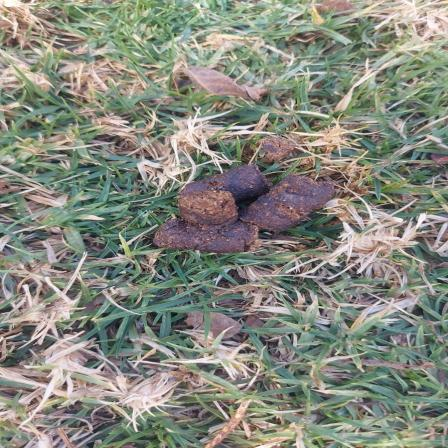dog-poop: (120, 136, 356, 264)
